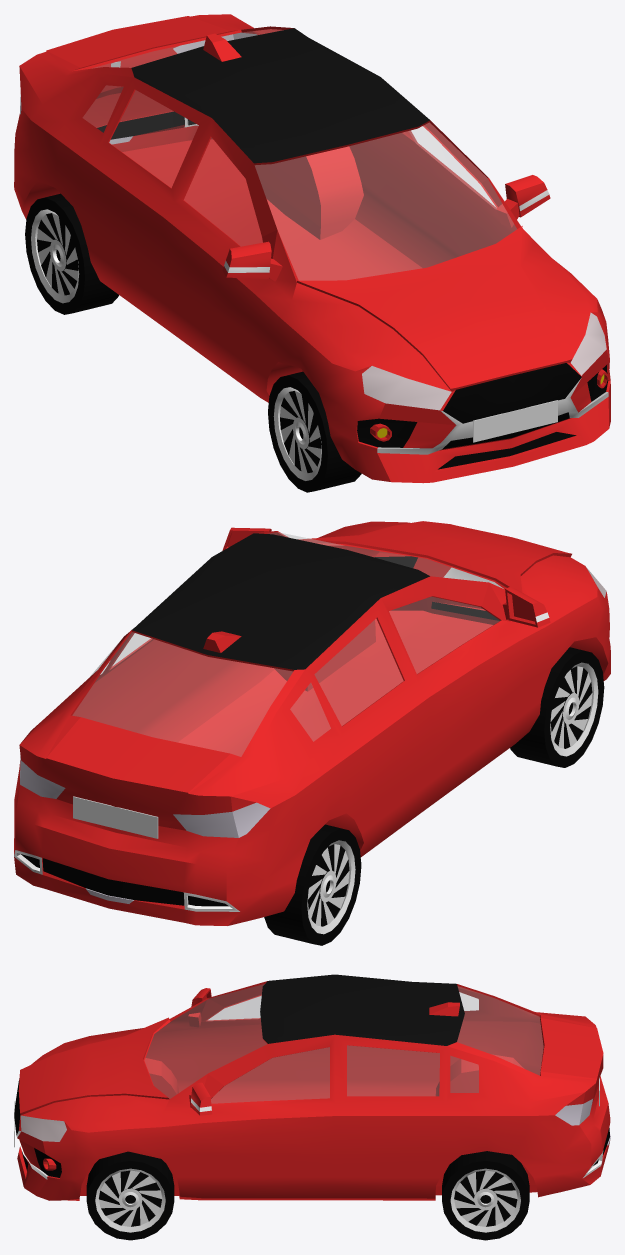
Rendered from Vesta 2.2.fbx.
3 views of the same model, one above another, from view 1: azimuth 30°, elevation 25°; view 2: azimuth 150°, elevation 25°; view 3: azimuth 270°, elevation 25° (orthographic). The views are drawn at different scales.
Parts seen in each view (by area): view 1: body, back wheels right, front wheels right, mirrors, front number, fin; view 2: body, back wheels right, front wheels right, back number, mirrors; view 3: body, back wheels left, front wheels left, mirrors, fin.
Part boxes in pixels (x1,y1,x2,y2): body: [14, 14, 610, 483]; back wheels right: [25, 193, 118, 314]; front wheels right: [268, 371, 361, 492]; mirrors: [222, 175, 550, 281]; front number: [473, 400, 557, 442]; fin: [203, 33, 241, 61]; body: [14, 521, 610, 925]; back wheels right: [264, 824, 361, 945]; front wheels right: [510, 647, 604, 767]; back number: [73, 796, 158, 838]; mirrors: [222, 527, 550, 627]; body: [14, 974, 610, 1200]; back wheels left: [442, 1151, 529, 1240]; front wheels left: [86, 1151, 174, 1240]; mirrors: [188, 988, 212, 1115]; fin: [429, 1002, 459, 1016].
Bounding box in the file's own units: 155 × 117 × 339.
